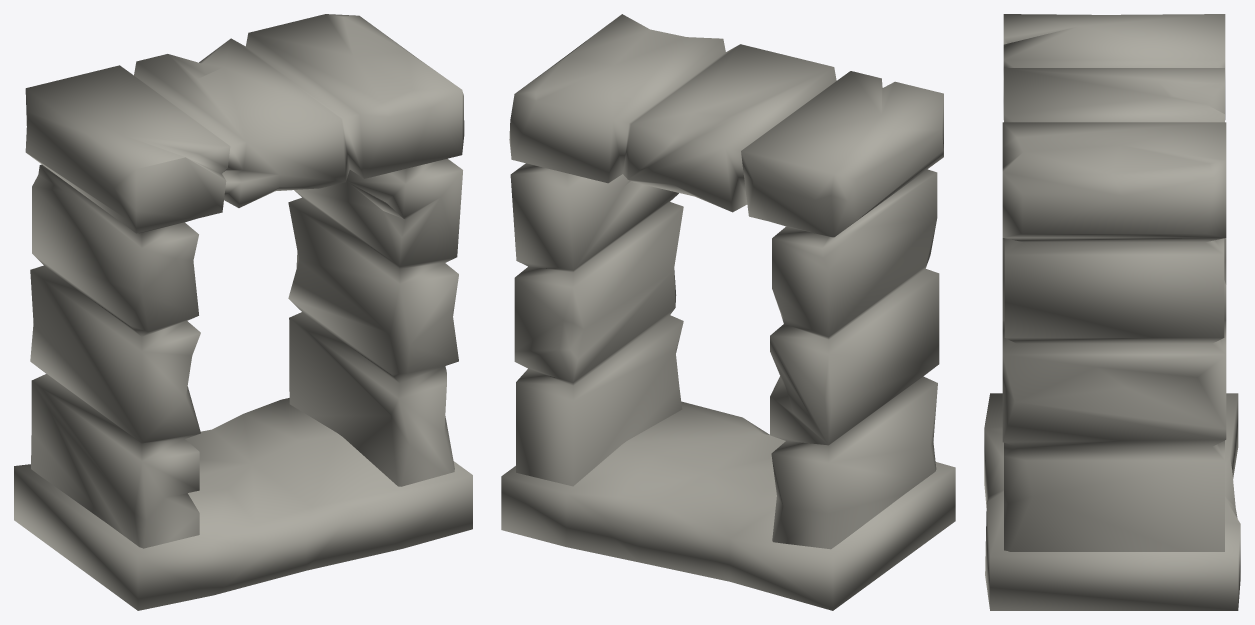
The model's file is rpgpp_ag_window_06a.fbx.
3 views of the same model, side by side, from view 1: azimuth 30°, elevation 25°; view 2: azimuth 150°, elevation 25°; view 3: azimuth 270°, elevation 25° (orthographic).
Parts seen in each view (by area): view 1: rpgpp_ag_window_06a; view 2: rpgpp_ag_window_06a; view 3: rpgpp_ag_window_06a.
Part boxes in pixels (box(x1,y1,x2,y2)): rpgpp_ag_window_06a: box(14, 14, 472, 610); rpgpp_ag_window_06a: box(501, 14, 955, 610); rpgpp_ag_window_06a: box(984, 14, 1240, 610).
Size of the model in its own units: 1.23 by 1.46 by 0.7712.
